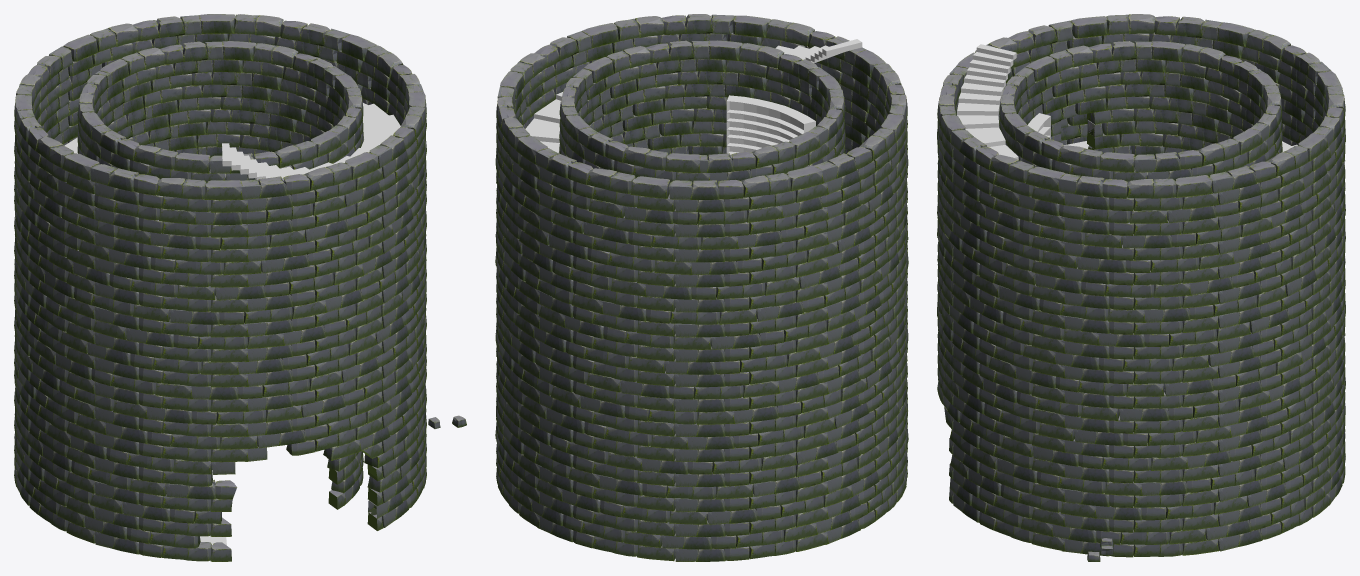
File: Pebble_Round_2_Wendeltreppe_Mauerringe.fbx
3 renders of one model, left to right at view 1: azimuth 30°, elevation 25°; view 2: azimuth 150°, elevation 25°; view 3: azimuth 270°, elevation 25°, orthographic.
Visible parts, largest first — view 1: Mauerring_Reihe_02, Mauerring_Innen; view 2: Mauerring_Reihe_02, Mauerring_Innen, Cube.003, Stufe 074; view 3: Mauerring_Reihe_02, Mauerring_Innen, Stufe 081, Stufe 083, Stufe 082.
Boxes of the visible parts, left/top/right/bottom form: Mauerring_Reihe_02: left=14, top=14, right=426, bottom=561; Mauerring_Innen: left=77, top=41, right=363, bottom=509; Mauerring_Reihe_02: left=495, top=14, right=908, bottom=561; Mauerring_Innen: left=559, top=40, right=845, bottom=340; Cube.003: left=726, top=95, right=815, bottom=158; Stufe 074: left=525, top=118, right=559, bottom=142; Mauerring_Reihe_02: left=937, top=14, right=1345, bottom=557; Mauerring_Innen: left=999, top=41, right=1282, bottom=508; Stufe 081: left=965, top=127, right=1005, bottom=147; Stufe 083: left=957, top=103, right=999, bottom=115; Stufe 082: left=957, top=115, right=998, bottom=128.
Size of the model in its own units: 1703 by 1613 by 1529.
